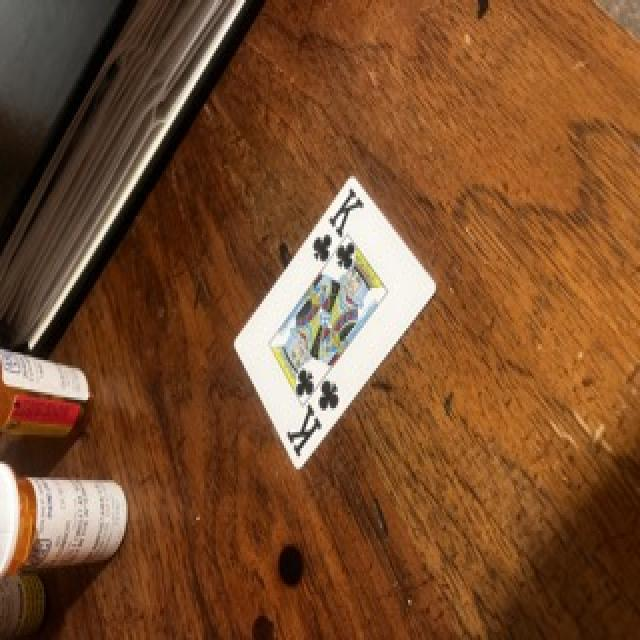King of clubs: (236, 177, 435, 468)
